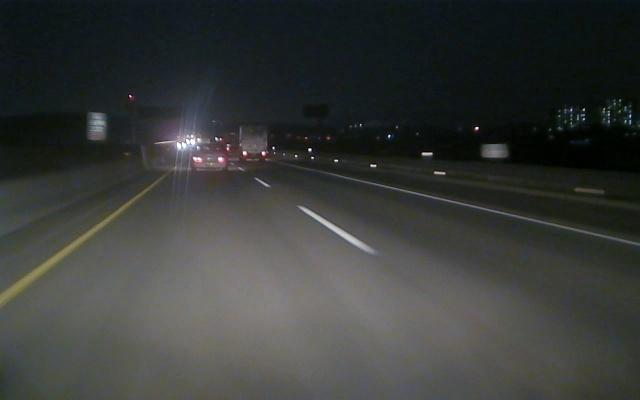lane: (323, 172, 638, 247), (1, 195, 139, 308), (256, 179, 379, 254)
